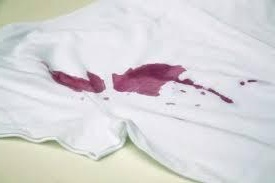wine: (112, 61, 186, 99), (43, 66, 104, 92), (177, 82, 236, 102), (241, 72, 264, 85), (165, 99, 182, 110), (194, 97, 208, 109), (77, 94, 89, 107), (101, 95, 114, 103)
